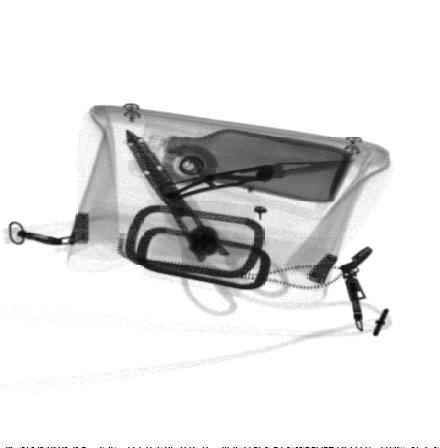Knife: (159, 158, 358, 202)
Scissors: (127, 130, 290, 317)
